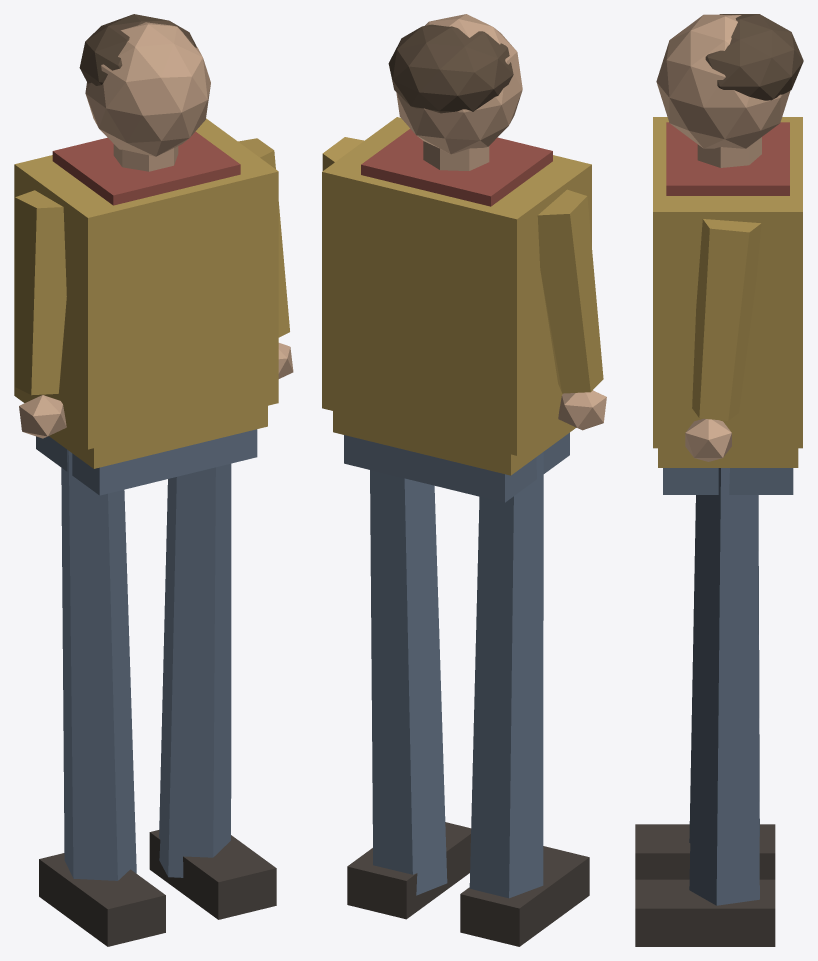
Rendered from spectator_standing_b.glb.
The picture shows the model from 3 angles, left to right: view 1: azimuth 30°, elevation 25°; view 2: azimuth 150°, elevation 25°; view 3: azimuth 270°, elevation 25°; orthographic projection. The views are drawn at different scales.
Visible parts, largest first — view 1: spectator_standing_b; view 2: spectator_standing_b; view 3: spectator_standing_b.
Boxes of the visible parts, x1,y1,x2,y2 form: spectator_standing_b: (14,14,293,946); spectator_standing_b: (322,14,606,946); spectator_standing_b: (635,14,803,946).
Bounding box in the file's own units: 0.4851 × 1.5 × 0.2585.
